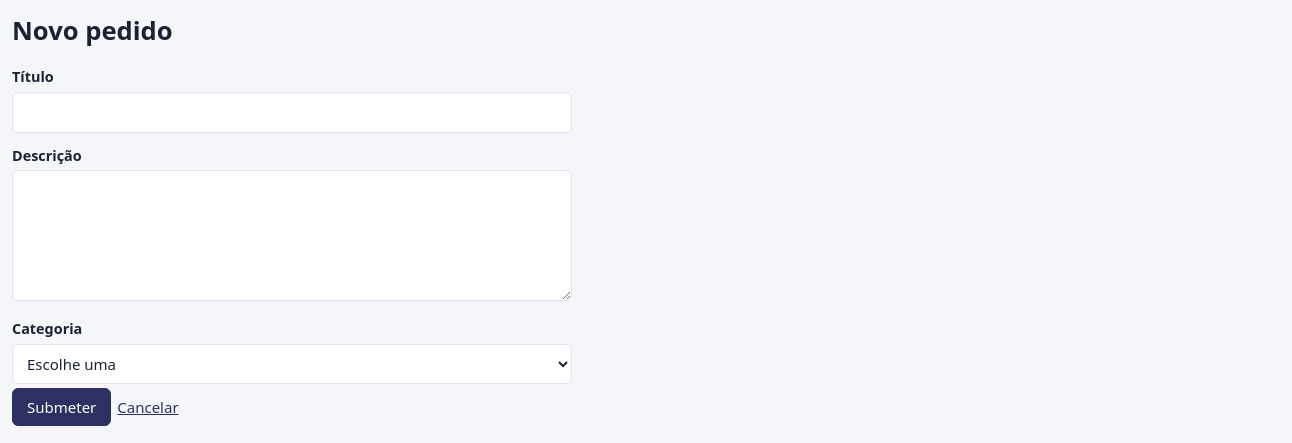
Test case: novo pedido › mostra os parecidos enquanto se escreve, cada um com o seu botão de votar
The width and height of the screenshot is (1292, 443).
Type "exportar relatório" into the field labelled "Título".
click(292, 112); type("exportar relatório")  # box [12,92,572,132]
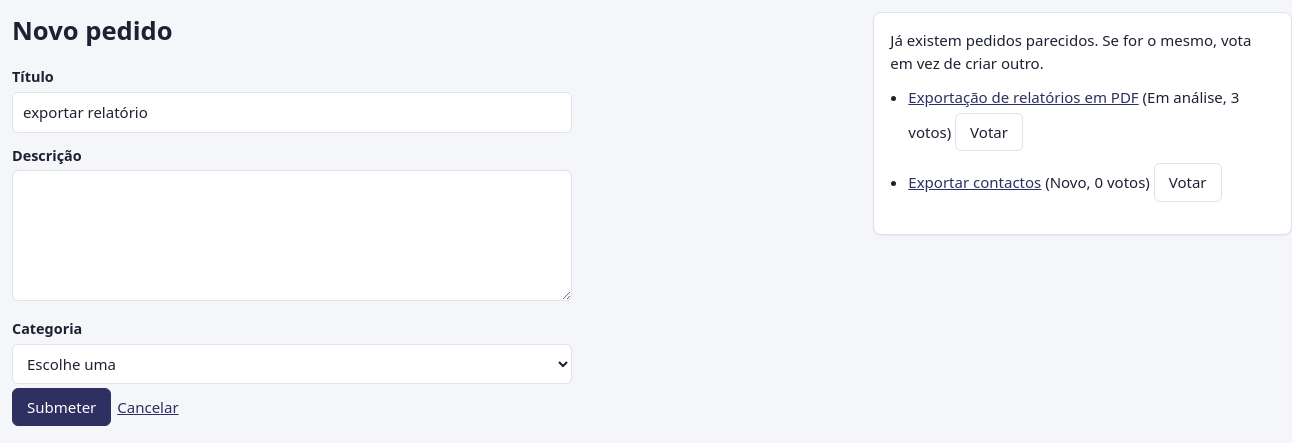
Expected: the number of buttons "Votar" is 2, [955,112,1023,151]; [1154,163,1222,202]
